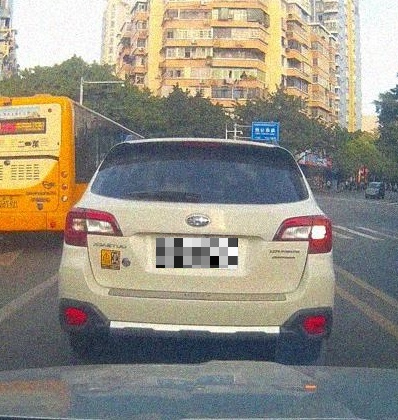L_light: (63, 207, 123, 248)
R_light: (271, 214, 333, 253), (182, 140, 221, 148)
day-right: (57, 137, 336, 358)
plate_1: (156, 238, 238, 268)
